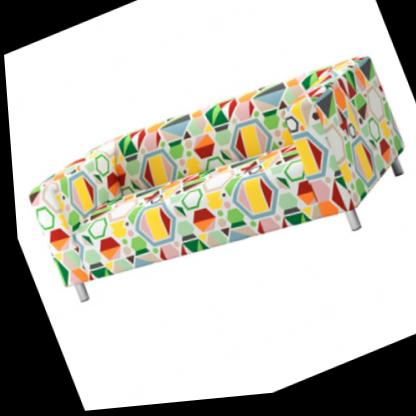Sofa: (5, 33, 416, 350)
